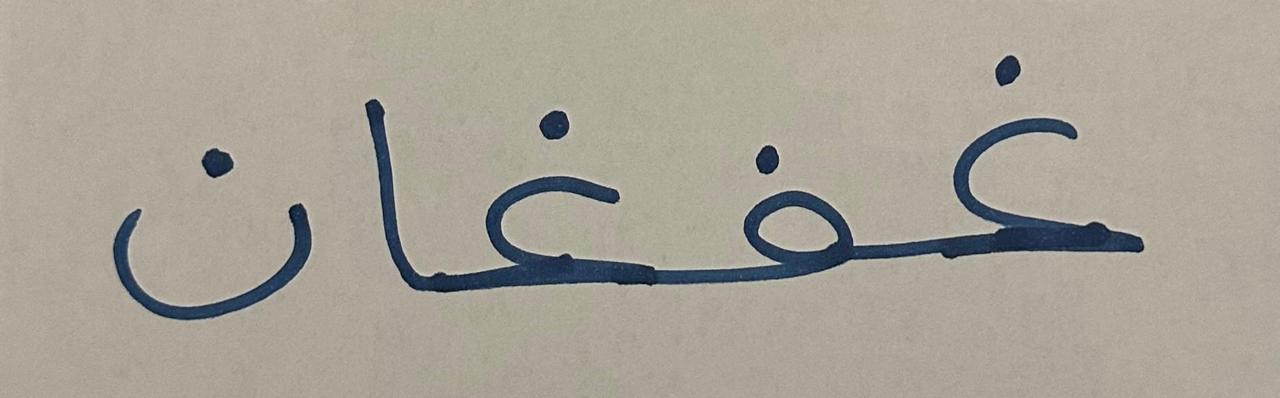alef: (339, 45, 423, 345)
feh: (662, 14, 889, 326)
ghain: (892, 19, 1193, 320), (426, 48, 661, 336)
qaf: (91, 95, 333, 352)
